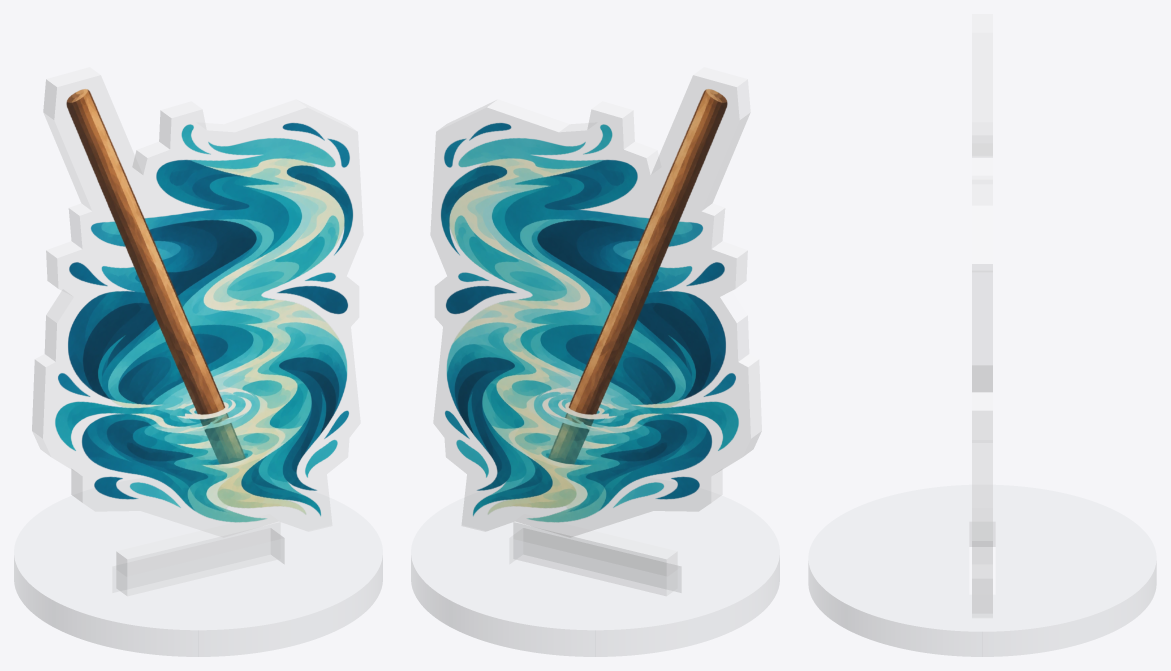
The model's file is do-luong-BToZx6f-.glb.
The picture shows the model from 3 angles, left to right: view 1: azimuth 30°, elevation 25°; view 2: azimuth 150°, elevation 25°; view 3: azimuth 270°, elevation 25°; orthographic projection. The views are drawn at different scales.
Parts seen in each view (by area): view 1: ArtworkFront, RoundBaseWithSlot, AcrylicSilhouette, InsertTab; view 2: ArtworkBack, RoundBaseWithSlot, AcrylicSilhouette, InsertTab; view 3: RoundBaseWithSlot, AcrylicSilhouette, InsertTab.
Boxes of the visible parts, x1,y1,x2,y2 form: ArtworkFront: (55,89,352,522); RoundBaseWithSlot: (14,478,382,656); AcrylicSilhouette: (32,67,363,537); InsertTab: (116,514,280,595); ArtworkBack: (441,89,738,522); RoundBaseWithSlot: (411,478,779,656); AcrylicSilhouette: (430,67,761,537); InsertTab: (513,514,677,595); RoundBaseWithSlot: (808,485,1156,656); AcrylicSilhouette: (972,14,992,617); InsertTab: (972,508,992,594).
Size of the model in its own units: 25.1 by 39.86 by 25.
5 materials, 2 textured.
